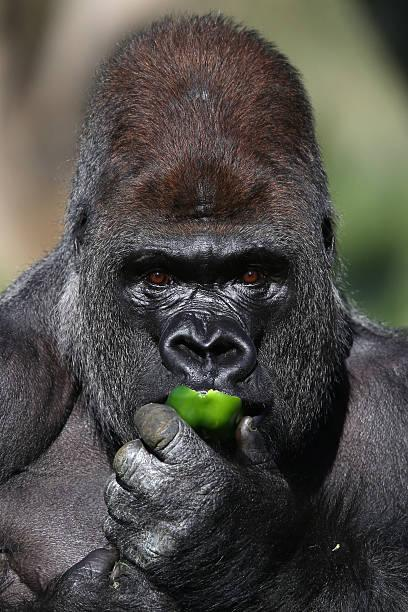gorille_Autres: (15, 4, 385, 612)
